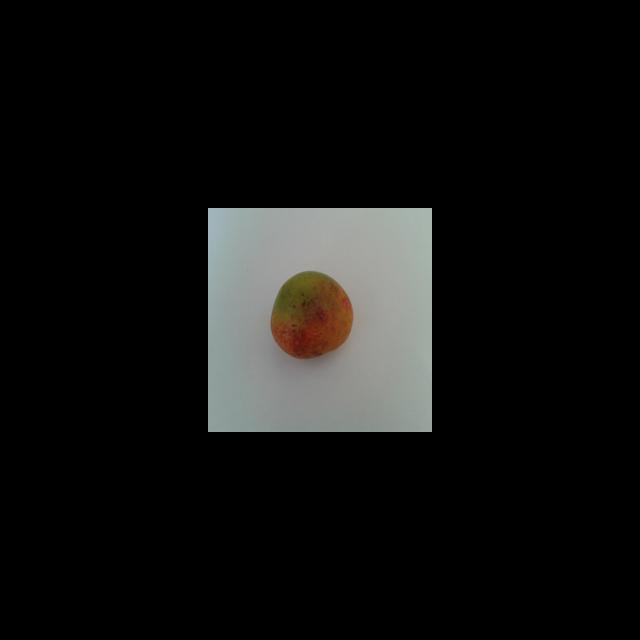Mango: (270, 270, 353, 359)
